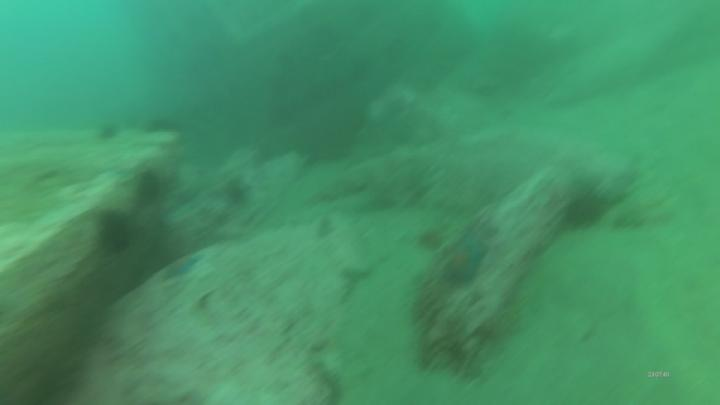echinus: (95, 205, 134, 255), (563, 189, 607, 232), (137, 168, 166, 208)
starfish: (447, 232, 489, 290), (156, 254, 205, 284)
